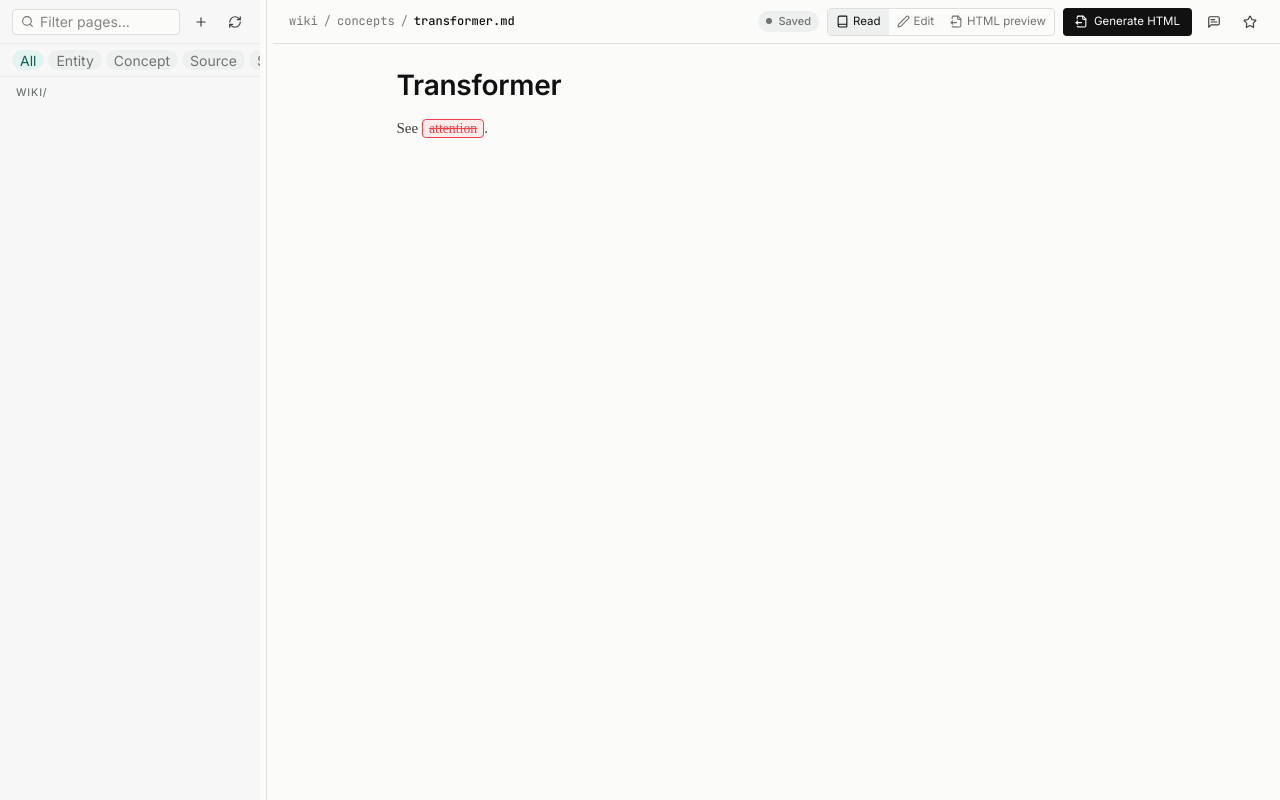
Test: Wiki HTML preview › keeps the quick-export dialog open and shows the backend error when start fails
Step 1. Click the button "Generate HTML" → click(1128, 22), box [1063,8,1192,36]
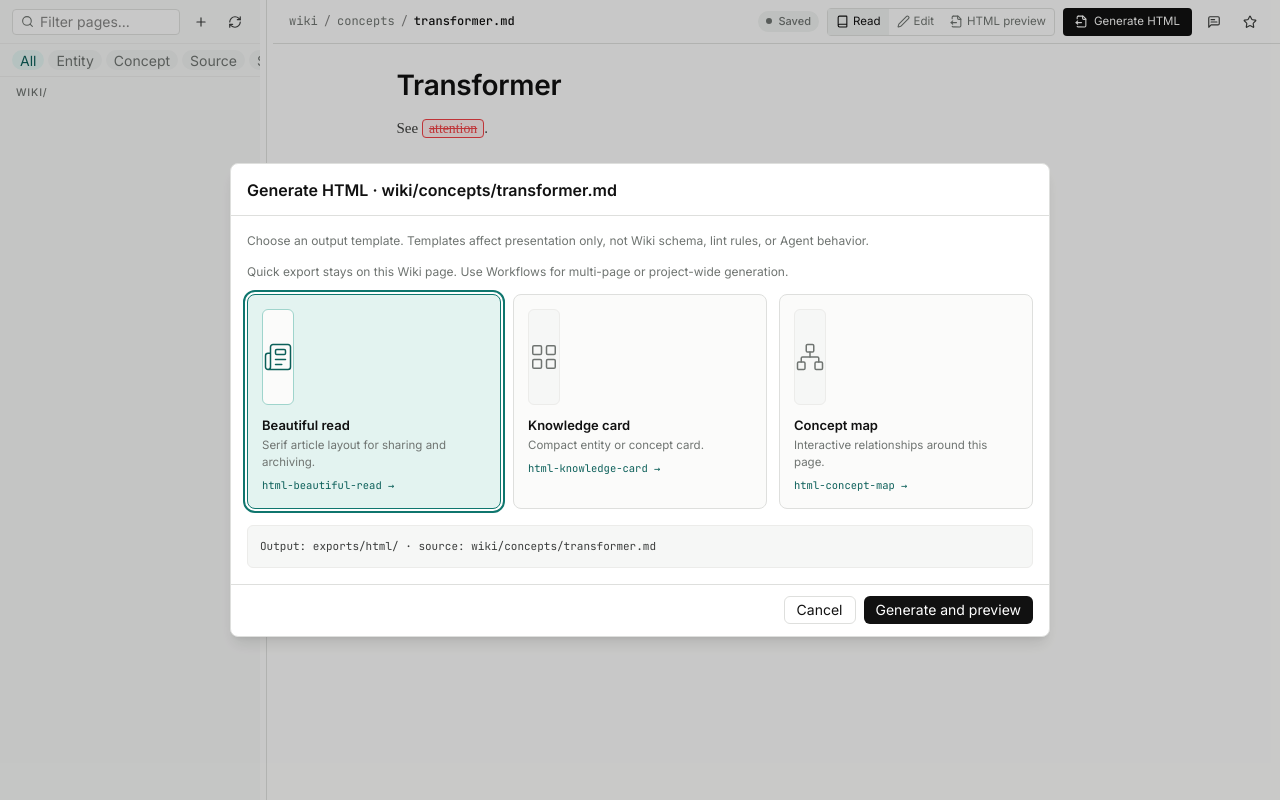
Step 2. Click the button "Generate and preview" → click(948, 610), box [864,596,1033,624]
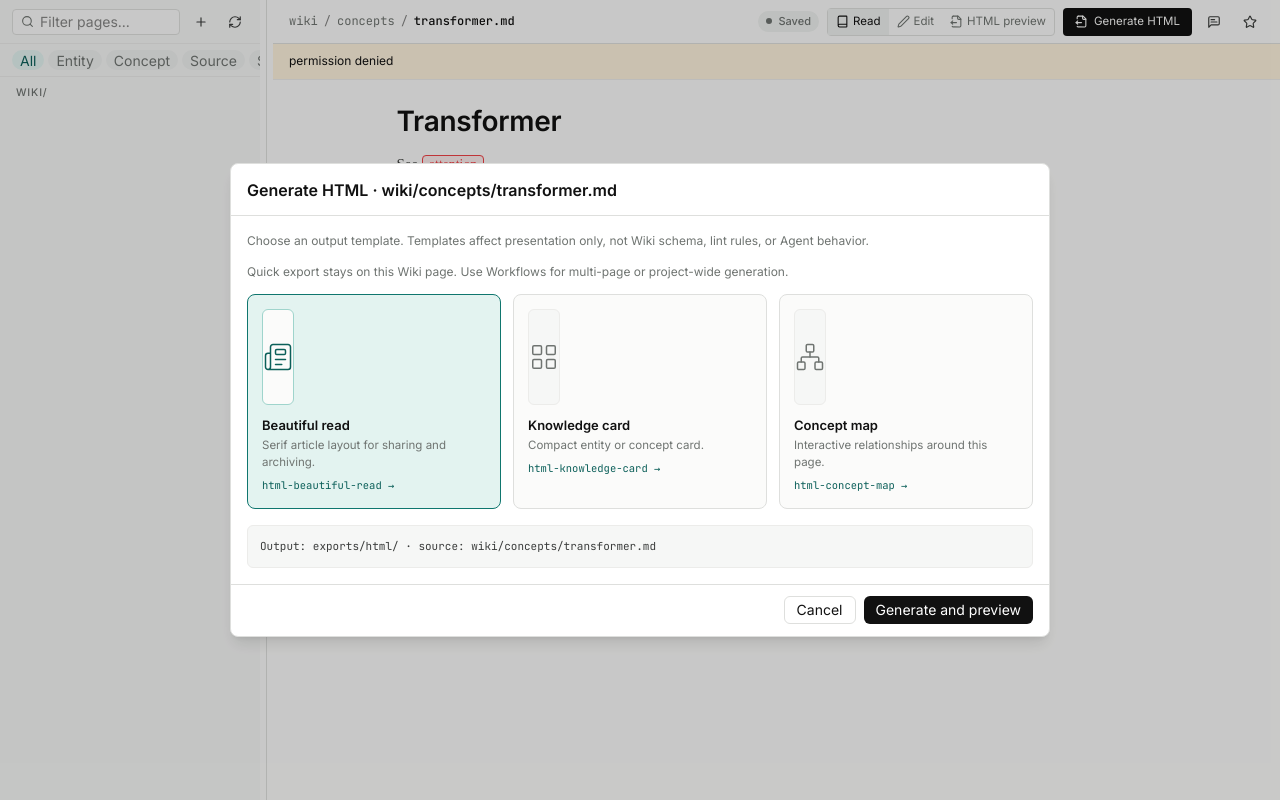
Expected: the dialog is shown
Expected: the text "permission denied" is shown, [273,44,1279,80]
